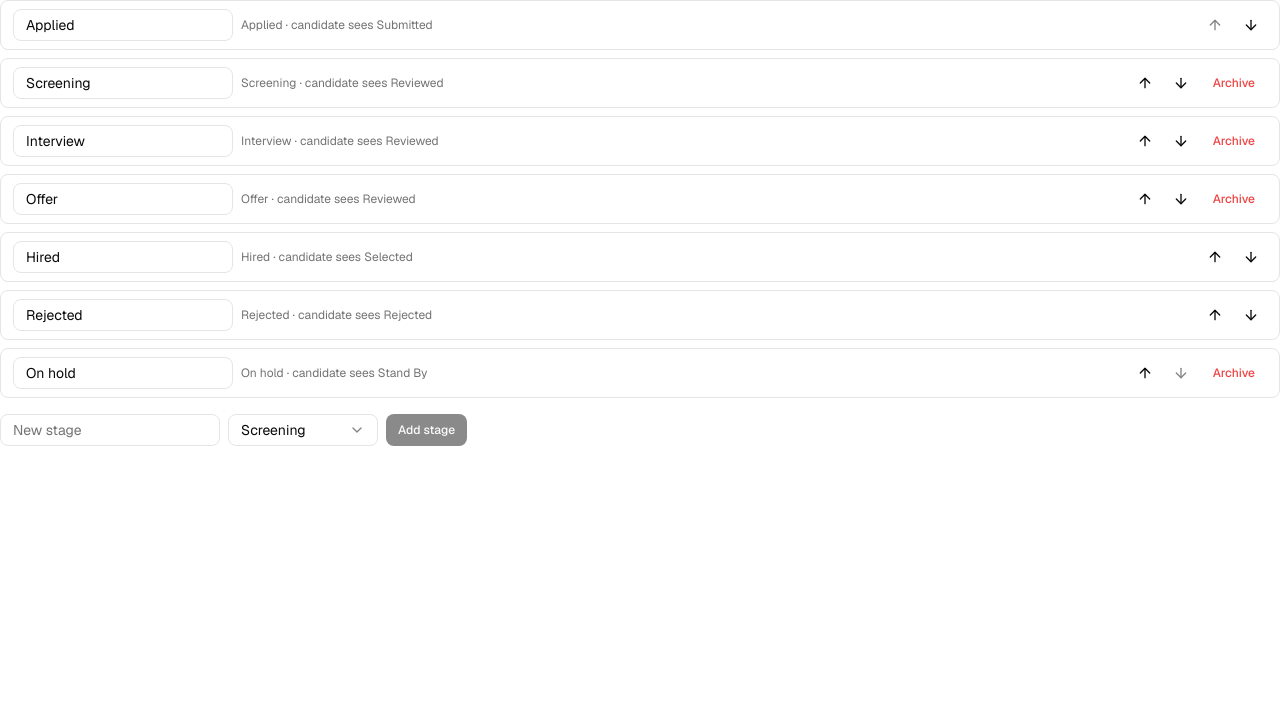
it: StageEditor (PLT-064) › shows an archive refusal inline
Click the button with aria-label "Archive Interview" at (1234, 141), box [1201, 125, 1267, 157]
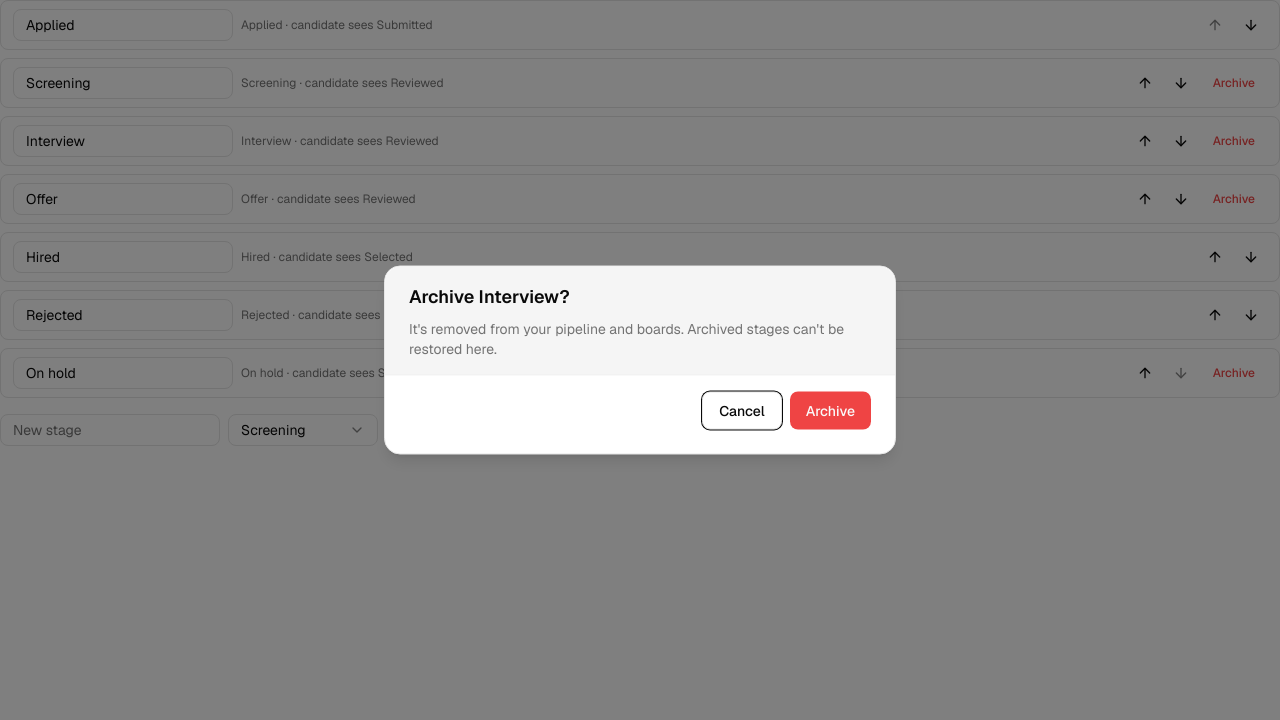
Click the button "Archive" at (830, 410), box [790, 392, 871, 430]
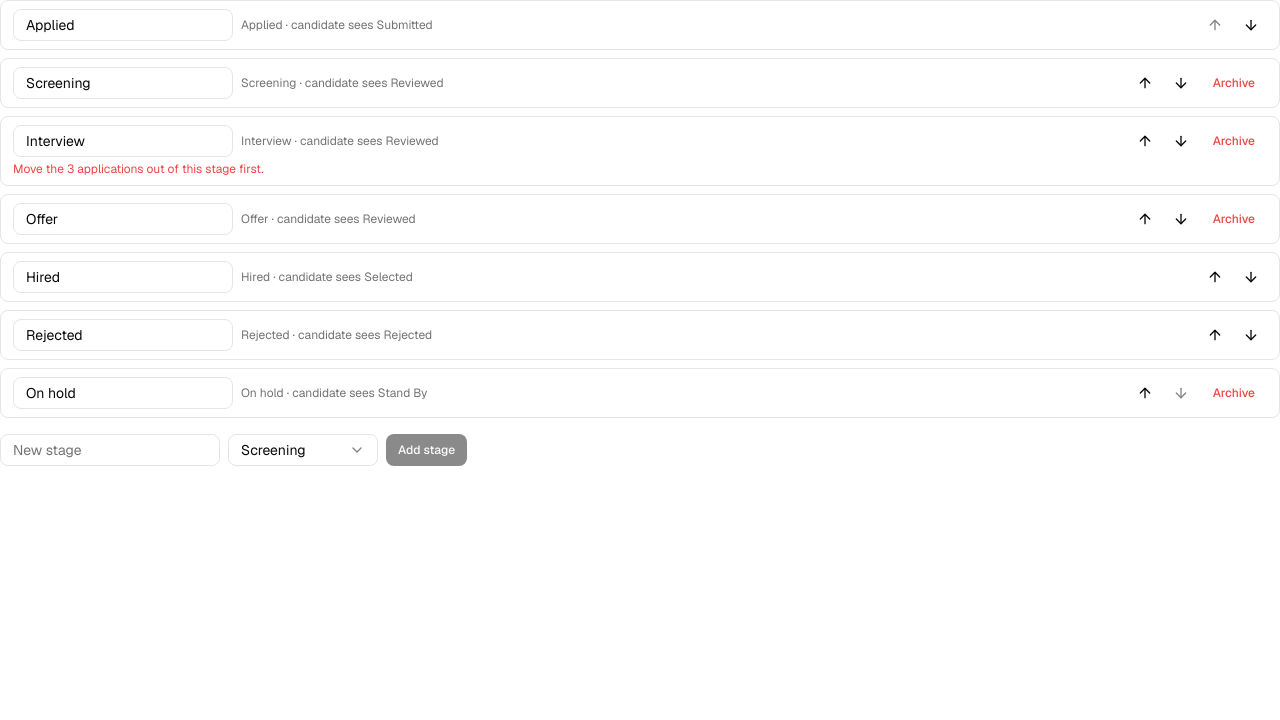
Expected: the list item that starts with "Interview" is shown, [0, 116, 1279, 186]
Expected: the dialog is gone
Expected: the message reads "Move the 3 applications out of this stage first.", [13, 161, 264, 177]
